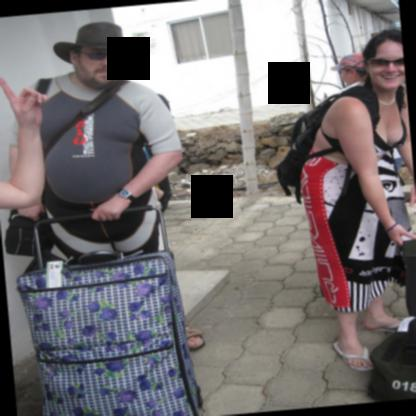backpack: (276, 82, 381, 204)
handbag: (3, 78, 136, 260)
suitcase: (17, 247, 207, 416)
